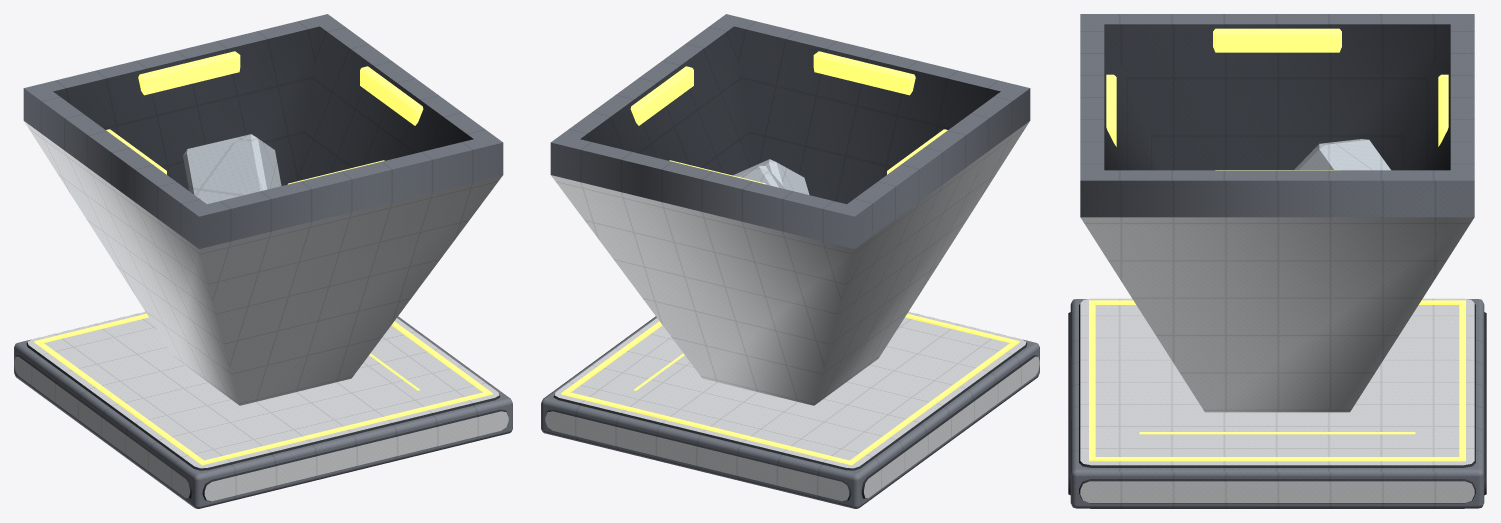
The model's file is R4X_SalvageOptimizer.glb.
The picture shows the model from 3 angles, left to right: view 1: azimuth 30°, elevation 25°; view 2: azimuth 150°, elevation 25°; view 3: azimuth 270°, elevation 25°; orthographic projection. The views are drawn at different scales.
Parts seen in each view (by area): view 1: R4X_SalvageOptimizer_Body; view 2: R4X_SalvageOptimizer_Body; view 3: R4X_SalvageOptimizer_Body.
Part boxes in pixels (bbox=[...]): R4X_SalvageOptimizer_Body: bbox=[14, 14, 512, 508]; R4X_SalvageOptimizer_Body: bbox=[541, 14, 1039, 508]; R4X_SalvageOptimizer_Body: bbox=[1068, 14, 1486, 508].
Size of the model in its own units: 0.52 by 0.45 by 0.52.
Materials: 5 (4 with a texture image).
